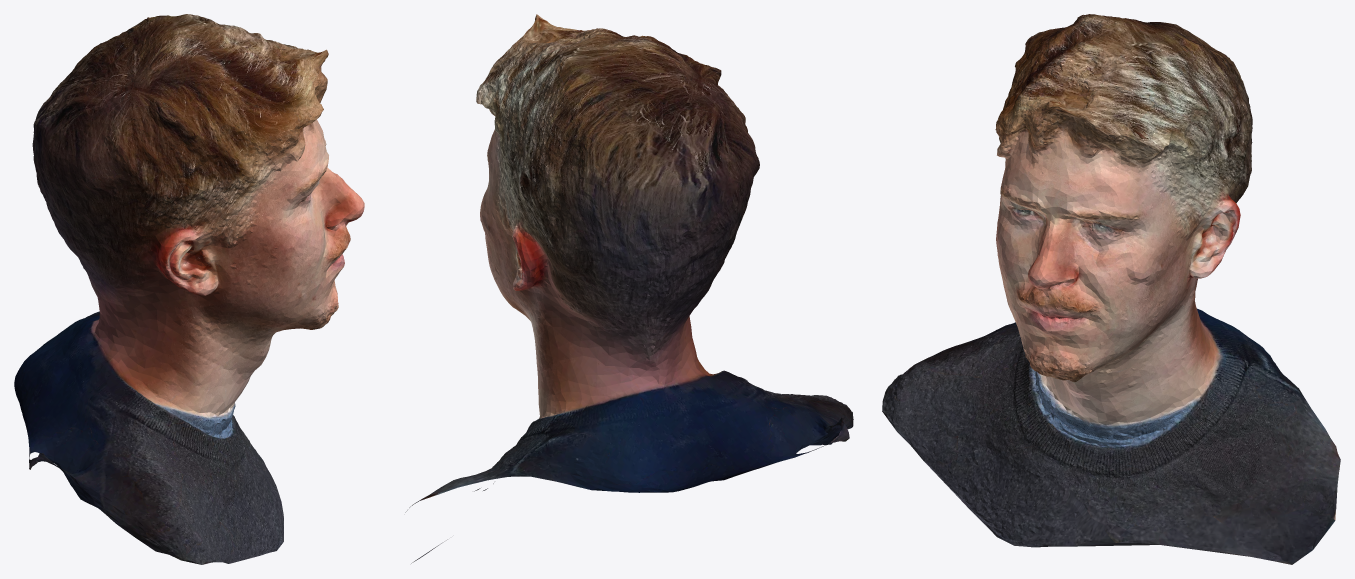
The model's file is Dave.glb.
3 views of the same model, side by side, from view 1: azimuth 30°, elevation 25°; view 2: azimuth 150°, elevation 25°; view 3: azimuth 270°, elevation 25° (orthographic). The views are drawn at different scales.
Parts seen in each view (by area): view 1: Mesh_0.009; view 2: Mesh_0.009; view 3: Mesh_0.009.
Boxes of the visible parts, x1,y1,x2,y2 form: Mesh_0.009: (14, 14, 364, 564); Mesh_0.009: (405, 14, 853, 563); Mesh_0.009: (882, 14, 1340, 564).
Size of the model in its own units: 0.2723 by 0.3781 by 0.3168.
1 material, 1 textured.
